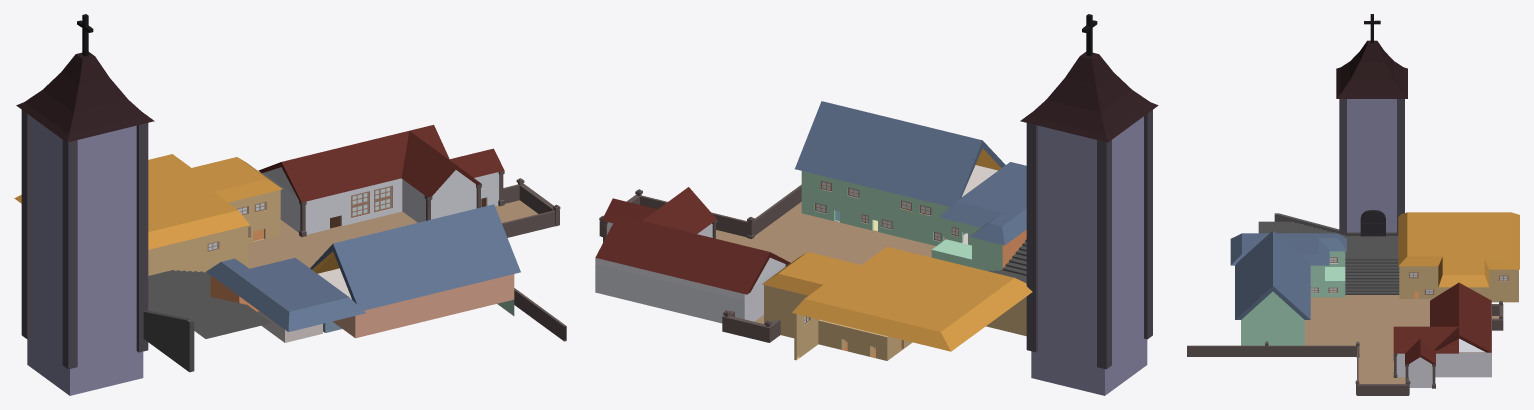
File: City.fbx
The picture shows the model from 3 angles, left to right: view 1: azimuth 30°, elevation 25°; view 2: azimuth 150°, elevation 25°; view 3: azimuth 270°, elevation 25°; orthographic projection. The views are drawn at different scales.
Visible parts, largest first — view 1: City; view 2: City; view 3: City.
Part boxes in pixels (x1=…): City: x1=14, y1=14, x2=566, y2=395; City: x1=595, y1=14, x2=1158, y2=395; City: x1=1187, y1=14, x2=1519, y2=395.
Size of the model in its own units: 10708 by 7177 by 8626.
